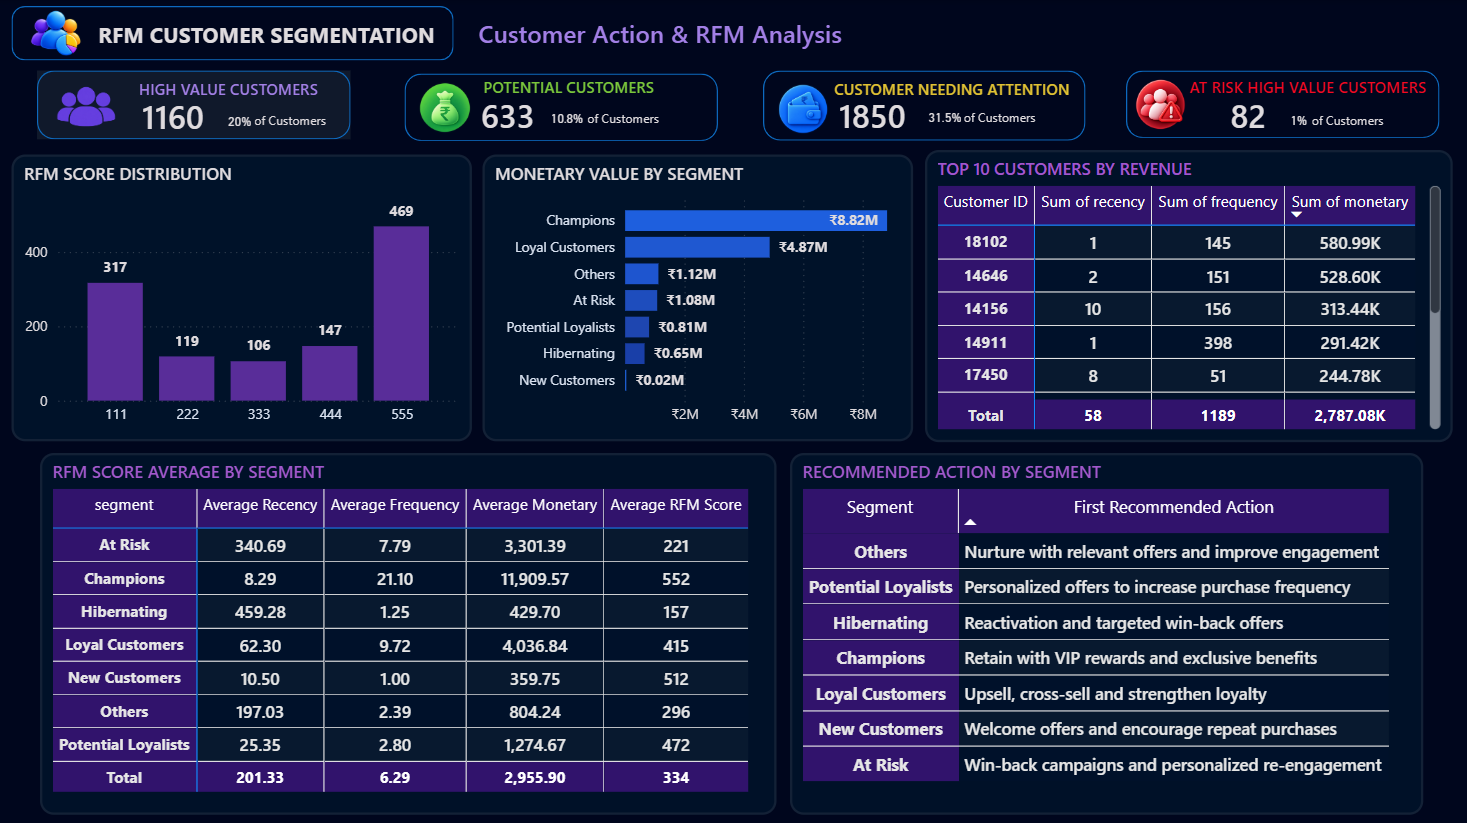

Layout of this report page (visuals, bound fields, positions):
{"tool":"powerbi","page":{"name":" Customer Action & RFM Analysis","canvas":[1280,720],"ordinal":1},"visuals":[{"type":"textbox","box":[74.8,11.5,319.3,36],"z":0},{"type":"shape","box":[983.7,61.8,273.2,59],"z":0,"group":"g1"},{"type":"shape","box":[34.5,61.8,273.3,60],"z":1000,"group":"g2"},{"type":"barChart","title":"MONETARY VALUE BY SEGMENT","fields":{"Category":["RFM.segment"],"Y":["RFM.Total Revenue"]},"box":[422.8,135.2,375.3,250.2],"z":1000},{"type":"card","fields":{"Values":["RFM.Potential Customers"]},"box":[412.7,84.8,61.8,33.1],"z":2000},{"type":"card","fields":{"Values":["RFM.High Value Customers"]},"box":[97.1,86.6,110.7,31.6],"z":2000,"group":"g2"},{"type":"shape","box":[11.5,5.8,385.4,47.5],"z":3000},{"type":"card","fields":{"Values":["RFM.Customers Needing Attention"]},"box":[724.8,84.8,74.8,31.6],"z":4000},{"type":"textbox","box":[113.6,63.2,176.9,30.2],"z":5000,"group":"g2"},{"type":"card","fields":{"Values":["RFM.At Risk High Value Customers"]},"box":[1057,86.2,66.2,30.2],"z":5000,"group":"g1"},{"type":"pivotTable","title":"RFM SCORE AVERAGE BY SEGMENT","fields":{"Rows":["RFM.segment"],"Values":["RFM.Average Recency","RFM.Average Frequency","RFM.Average Monetary","RFM.Average RFM Score"]},"box":[36.6,394.9,642,315.1],"z":5000},{"type":"clusteredColumnChart","title":"RFM SCORE DISTRIBUTION","fields":{"Y":["CountNonNull(RFM.Customer ID)"],"Category":["RFM.RFM Score Category"]},"box":[11.5,135.2,401.2,250.2],"z":6000},{"type":"textbox","box":[408.4,8.6,340.8,41.7],"z":7000},{"type":"group","id":"g1","title":"Group 3","box":[983.7,61.8,273.2,60.4],"z":8000},{"type":"group","id":"g2","title":"Group 6","box":[34.5,61.8,273.3,60],"z":9000},{"type":"shape","box":[353.8,64.7,273.2,59],"z":10000},{"type":"textbox","box":[416.6,61.8,161.1,30.2],"z":11000},{"type":"image","box":[41.7,69,70.5,47.5],"z":12000},{"type":"image","box":[353.8,71.9,70.5,44.6],"z":13000},{"type":"image","box":[667.3,73.3,70.5,44.6],"z":14000},{"type":"image","box":[983.7,67.6,60.4,47.5],"z":16000},{"type":"textbox","box":[836.4,86.6,74,33.1],"z":17000},{"type":"textbox","box":[508.6,87.6,85,32.7],"z":18000},{"type":"image","box":[25.9,7.2,48.9,46],"z":19000},{"type":"group","id":"g3","title":"Group 1","box":[667.3,61.8,281.9,60.4],"z":20000},{"type":"card","fields":{"Values":["RFM.High Value Customer %"]},"box":[194.1,93.5,33.1,25.9],"z":21000},{"type":"card","fields":{"Values":["RFM.At Risk High Value Customer %"]},"box":[1114.5,92,38.8,23],"z":22000},{"type":"card","fields":{"Values":["RFM.Potential Customer %"]},"box":[476,90.6,38.8,24.4],"z":23000},{"type":"card","fields":{"Values":["RFM.Customers Needing Attention %"]},"box":[805.4,88.9,39.2,23.5],"z":24000},{"type":"pivotTable","title":"TOP 10 CUSTOMERS BY REVENUE","fields":{"Rows":["RFM.Customer ID"],"Values":["Sum(RFM.recency)","Sum(RFM.frequency)","Sum(RFM.monetary)"]},"box":[808.2,130.9,460.2,254.5],"z":25000},{"type":"pivotTable","title":"RECOMMENDED ACTION BY SEGMENT","fields":{"Rows":["Recommended Actions.Segment"],"Values":["Min(Recommended Actions.Recommended Action)"]},"box":[690.4,394.9,551.8,315.1],"z":26000},{"type":"textbox","box":[219.3,89.4,74.8,30.2],"z":30000,"group":"g2"},{"type":"textbox","box":[1028.3,61.8,228.7,28.8],"z":32000,"group":"g1"},{"type":"shape","box":[667.3,61.8,281,61.1],"z":33000,"group":"g3"},{"type":"textbox","box":[1140.5,89.1,74.8,33.1],"z":35004,"group":"g1"},{"type":"textbox","box":[710.5,62.6,239.4,29.8],"z":37001,"group":"g3"}]}

Visuals, with their boxes in screenshot pixels (x1, y1, x2, y2), scaled from the page's 1280x720 canvas onto the 1467x823 screenshot:
textbox: (86, 13, 452, 54)
shape: (1127, 71, 1441, 138)
shape: (40, 71, 353, 139)
"MONETARY VALUE BY SEGMENT" barChart: (485, 155, 915, 441)
card - RFM.Potential Customers: (473, 97, 544, 135)
card - RFM.High Value Customers: (111, 99, 238, 135)
shape: (13, 7, 455, 61)
card - RFM.Customers Needing Attention: (831, 97, 916, 133)
textbox: (130, 72, 333, 107)
card - RFM.At Risk High Value Customers: (1211, 99, 1287, 133)
"RFM SCORE AVERAGE BY SEGMENT" pivotTable: (42, 451, 778, 812)
"RFM SCORE DISTRIBUTION" clusteredColumnChart: (13, 155, 473, 441)
textbox: (468, 10, 859, 57)
"Group 3" group: (1127, 71, 1441, 140)
"Group 6" group: (40, 71, 353, 139)
shape: (405, 74, 719, 141)
textbox: (477, 71, 662, 105)
image: (48, 79, 129, 133)
image: (405, 82, 486, 133)
image: (765, 84, 846, 135)
image: (1127, 77, 1197, 132)
textbox: (959, 99, 1043, 137)
textbox: (583, 100, 680, 138)
image: (30, 8, 86, 61)
"Group 1" group: (765, 71, 1088, 140)
card - RFM.High Value Customer %: (222, 107, 260, 136)
card - RFM.At Risk High Value Customer %: (1277, 105, 1322, 131)
card - RFM.Potential Customer %: (546, 104, 590, 131)
card - RFM.Customers Needing Attention %: (923, 102, 968, 128)
"TOP 10 CUSTOMERS BY REVENUE" pivotTable: (926, 150, 1454, 441)
"RECOMMENDED ACTION BY SEGMENT" pivotTable: (791, 451, 1424, 812)
textbox: (251, 102, 337, 137)
textbox: (1179, 71, 1441, 104)
shape: (765, 71, 1087, 140)
textbox: (1307, 102, 1393, 140)
textbox: (814, 72, 1089, 106)
